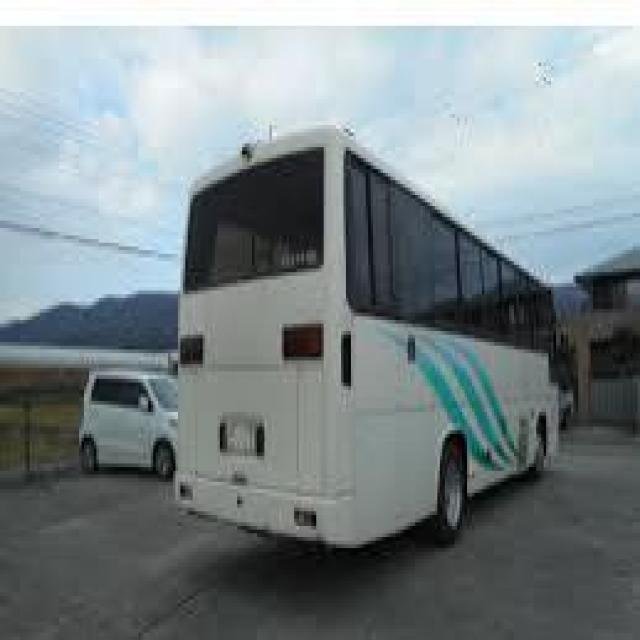Bus: (173, 122, 558, 556)
